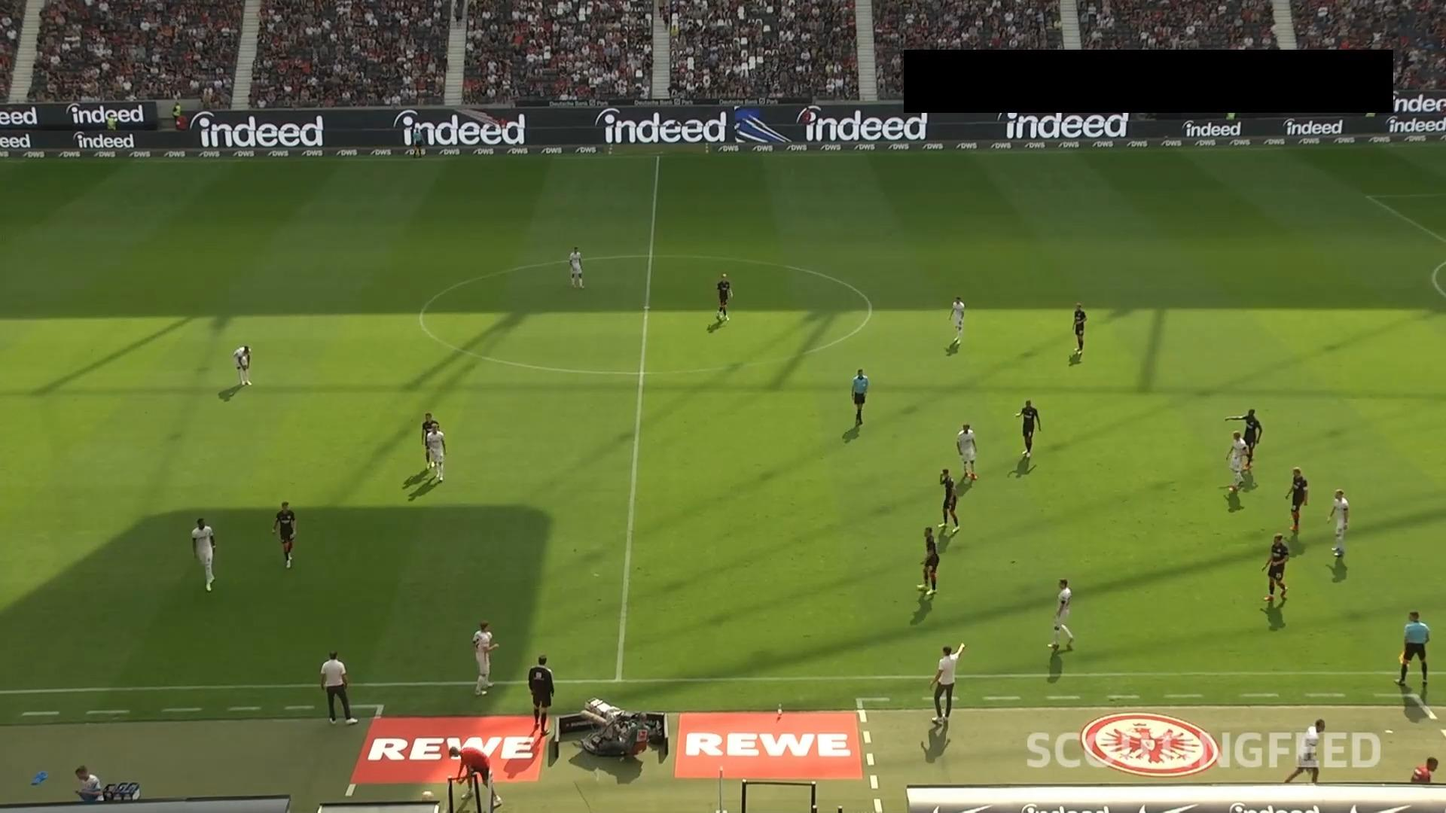ball: (485, 631, 493, 640)
player: (1226, 406, 1265, 473), (471, 620, 499, 698), (1048, 577, 1076, 653), (1262, 534, 1291, 607), (191, 517, 217, 590), (918, 528, 943, 597), (273, 498, 296, 572), (1016, 399, 1043, 462), (1327, 491, 1352, 554), (1287, 466, 1310, 533), (1224, 435, 1247, 497), (956, 426, 981, 483), (938, 470, 960, 530), (419, 411, 439, 476), (426, 425, 447, 482), (233, 342, 256, 387), (1069, 306, 1089, 356), (947, 299, 968, 343), (715, 273, 733, 320), (566, 248, 583, 287)
referee: (1395, 607, 1432, 692), (848, 369, 870, 425), (413, 129, 422, 159)
